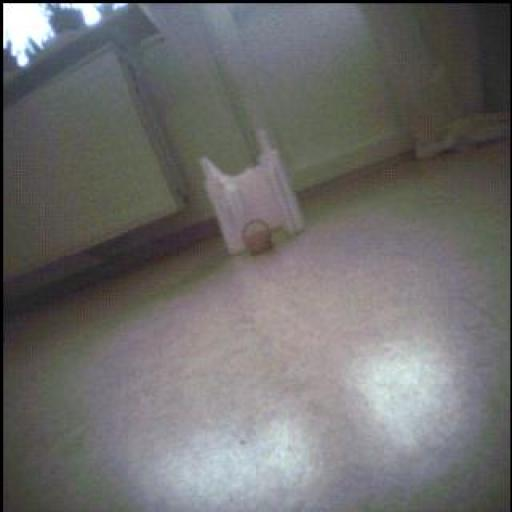Basket: (243, 221, 273, 256)
